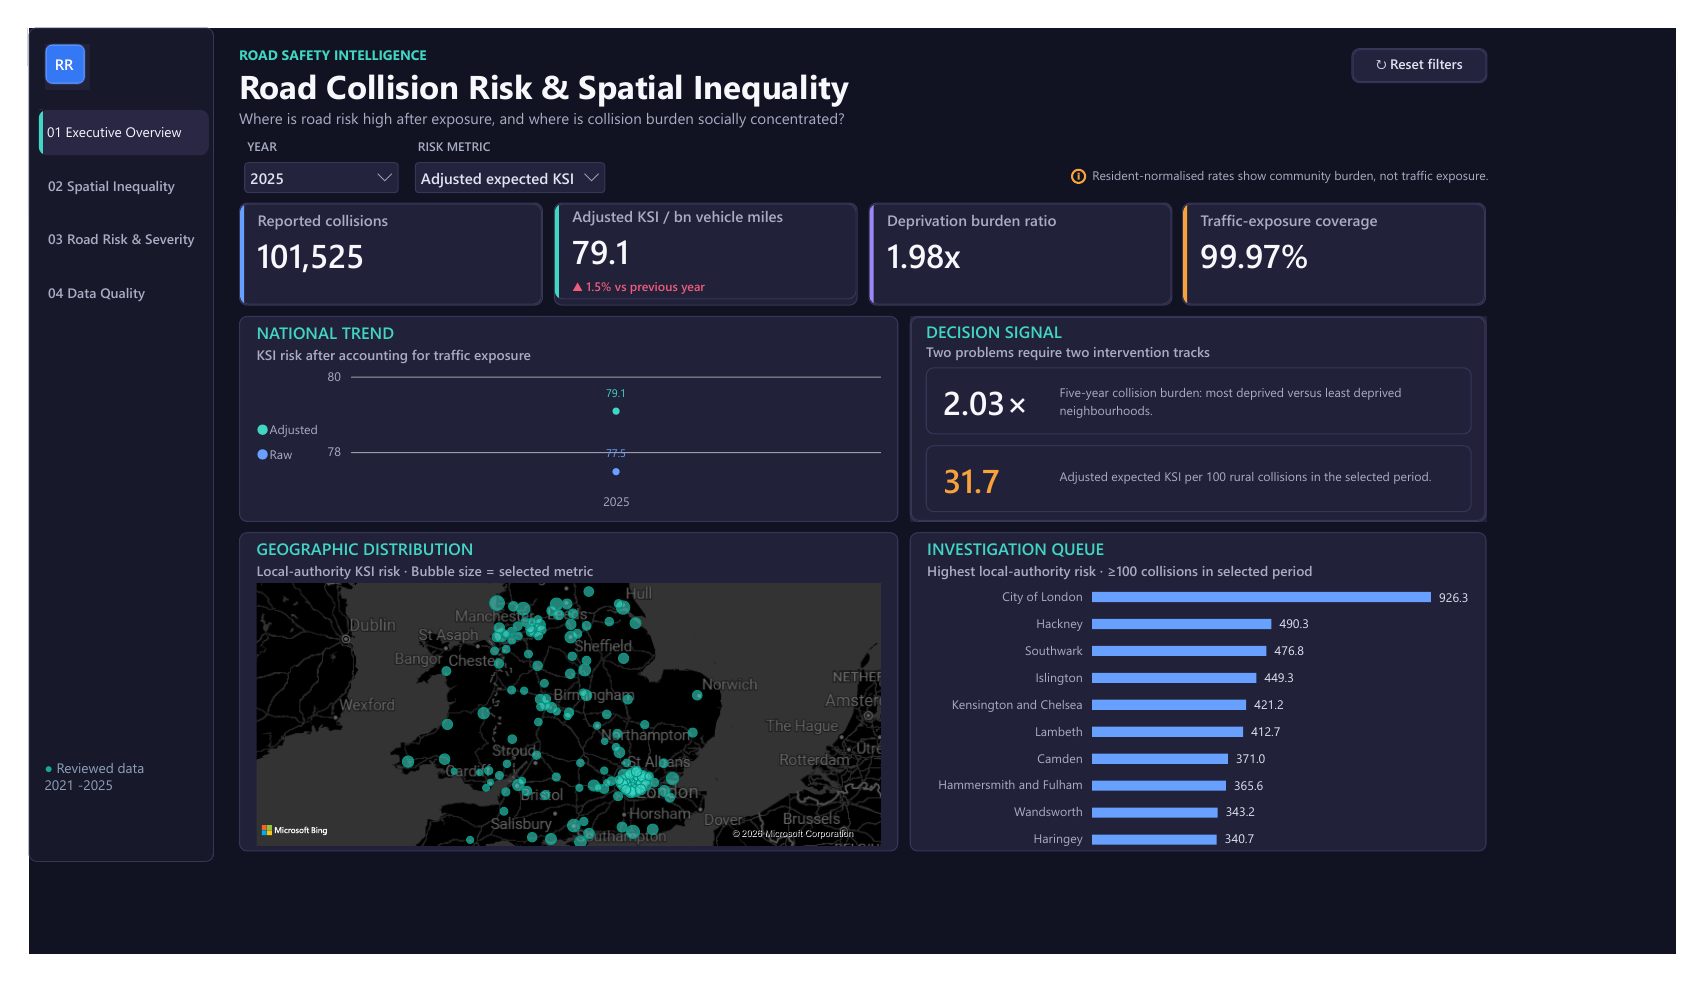

The dashboard page shown, as its layout file describes it:
{"tool":"powerbi","page":{"name":"01 Executive Overview","canvas":[1440,810],"ordinal":0},"visuals":[{"type":"shape","box":[0,0,180,810],"z":0},{"type":"shape","box":[16,16,40,40],"z":1000,"group":"g1"},{"type":"textbox","box":[15,710,120,50],"z":1000},{"type":"textbox","box":[26,26,33.8,34.6],"z":2000,"group":"g1"},{"type":"pageNavigator","box":[10,80,165,200],"z":2000},{"type":"group","id":"g1","title":"Group 7","box":[16,16,43.8,44.6],"z":3000},{"type":"actionButton","title":"Reset filters","box":[1284,20,132,34],"z":4000},{"type":"textbox","box":[204,18,700,85],"z":5000},{"type":"slicer","fields":{"Values":["dim_year.year_label"]},"box":[204,108,160,54],"z":6000},{"type":"slicer","fields":{"Values":["Risk Metric Selector.Risk Metric"]},"box":[370,108,195,54],"z":7000},{"type":"cardVisual","title":"Reported collisions","fields":{"Data":["_Measures.Collision Count Display"]},"box":[204,170,295,100],"z":8000},{"type":"cardVisual","title":"Reported collisions","fields":{"Data":["_Measures.Adjusted KSI per Billion Vehicle Miles"]},"box":[510,170,295,100],"z":9000},{"type":"cardVisual","title":"Reported collisions","fields":{"Data":["_Measures.Most-to-Least Deprived Ratio"]},"box":[815,170,295,100],"z":10000},{"type":"cardVisual","title":"Reported collisions","fields":{"Data":["_Measures.Exposure Coverage"]},"box":[1120,170,295,100],"z":11000},{"type":"lineChart","title":"NATIONAL TREND","fields":{"Category":["dim_year.collision_year"],"Y":["_Measures.Adjusted KSI per Billion Vehicle Miles","_Measures.Raw KSI per Billion Vehicle Miles"]},"box":[204,280,640,200],"z":12000},{"type":"map","title":"GEOGRAPHIC DISTRIBUTION","fields":{"Category":["dim_local_authority.local_authority_name"],"Size":["_Measures.Selected Risk Metric"],"X":["Avg(dim_local_authority.longitude)"],"Y":["Avg(dim_local_authority.latitude)"]},"box":[204,490,640,310],"z":13000},{"type":"shape","box":[855,280,560,200],"z":14000,"group":"g2"},{"type":"clusteredBarChart","title":"INVESTIGATION QUEUE","fields":{"Category":["dim_local_authority.local_authority_name"],"Y":["_Measures.Selected Risk Metric"]},"box":[855,490,560,310],"z":14000},{"type":"actionButton","box":[1000,130,440,30],"z":15000},{"type":"textbox","box":[855,280,450,50],"z":16000,"group":"g2"},{"type":"group","id":"g2","title":"Group 1","box":[855,280,560,200],"z":16000},{"type":"cardVisual","fields":{"Data":["_Measures.Five-Year Deprivation Burden Ratio"]},"box":[870,330,530,65],"z":17000,"group":"g2"},{"type":"cardVisual","fields":{"Data":["_Measures.Rural Adjusted KSI per 100 Collisions"]},"box":[870,405,530,65],"z":18000,"group":"g2"},{"type":"textbox","box":[1000,345,350,35],"z":19000,"group":"g2"},{"type":"textbox","box":[1000,427,375,27],"z":20000,"group":"g2"}]}

Visuals, with their boxes in screenshot pixels (x1, y1, x2, y2), scaled from the page's 1440x810 canvas onto the 1705x983 screenshot:
shape: locate(0, 0, 213, 982)
shape: locate(19, 19, 66, 68)
textbox: locate(18, 862, 160, 922)
textbox: locate(31, 32, 71, 74)
pageNavigator: locate(12, 97, 207, 340)
"Group 7" group: locate(19, 19, 71, 74)
"Reset filters" actionButton: locate(1520, 24, 1677, 66)
textbox: locate(242, 22, 1070, 125)
slicer - dim_year.year_label: locate(242, 131, 431, 197)
slicer - Risk Metric Selector.Risk Metric: locate(438, 131, 669, 197)
"Reported collisions" cardVisual: locate(242, 206, 591, 328)
"Reported collisions" cardVisual: locate(604, 206, 953, 328)
"Reported collisions" cardVisual: locate(965, 206, 1314, 328)
"Reported collisions" cardVisual: locate(1326, 206, 1675, 328)
"NATIONAL TREND" lineChart: locate(242, 340, 999, 583)
"GEOGRAPHIC DISTRIBUTION" map: locate(242, 595, 999, 971)
shape: locate(1012, 340, 1675, 583)
"INVESTIGATION QUEUE" clusteredBarChart: locate(1012, 595, 1675, 971)
actionButton: locate(1184, 158, 1704, 194)
textbox: locate(1012, 340, 1545, 400)
"Group 1" group: locate(1012, 340, 1675, 583)
cardVisual - _Measures.Five-Year Deprivation Burden Ratio: locate(1030, 400, 1658, 479)
cardVisual - _Measures.Rural Adjusted KSI per 100 Collisions: locate(1030, 492, 1658, 570)
textbox: locate(1184, 419, 1598, 461)
textbox: locate(1184, 518, 1628, 551)
